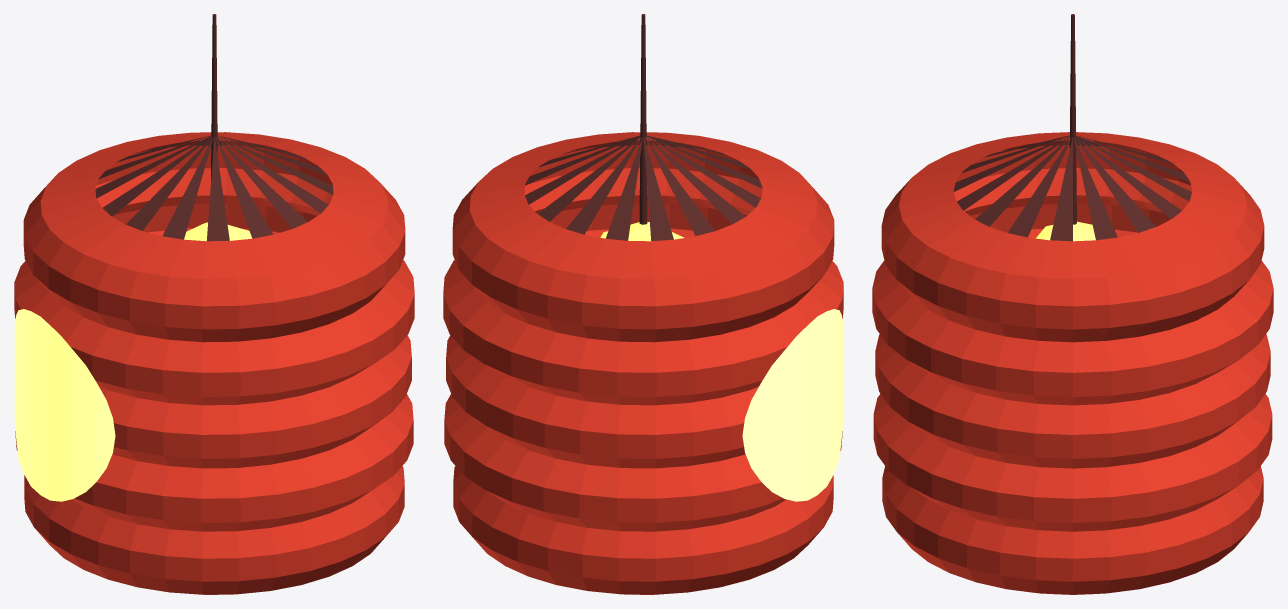
Rendered from Lampion.fbx.
The picture shows the model from 3 angles, left to right: view 1: azimuth 30°, elevation 25°; view 2: azimuth 150°, elevation 25°; view 3: azimuth 270°, elevation 25°; orthographic projection.
Visible parts, largest first — view 1: Cylinder, Circle, Cone, Icosphere; view 2: Cylinder, Circle, Cone; view 3: Cylinder, Cone, Icosphere.
Part boxes in pixels (box(x1,y1,x2,y2)): Cylinder: box(14, 132, 414, 594); Circle: box(14, 309, 115, 501); Cone: box(95, 14, 333, 241); Icosphere: box(184, 222, 252, 241); Cylinder: box(443, 132, 843, 594); Circle: box(742, 309, 843, 501); Cone: box(525, 14, 762, 241); Cylinder: box(872, 132, 1273, 594); Cone: box(953, 14, 1191, 241); Icosphere: box(1035, 221, 1095, 241).
Bounding box in the file's own units: 230 × 334 × 230.
